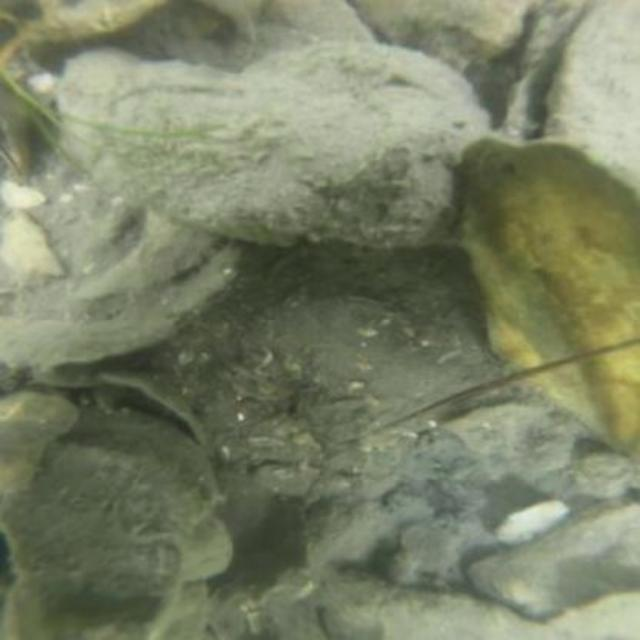Oyster-Closed: (46, 38, 492, 248), (0, 144, 250, 370), (469, 496, 638, 622), (322, 569, 589, 638)
Oyster-Open: (0, 364, 224, 638), (507, 0, 638, 192)
